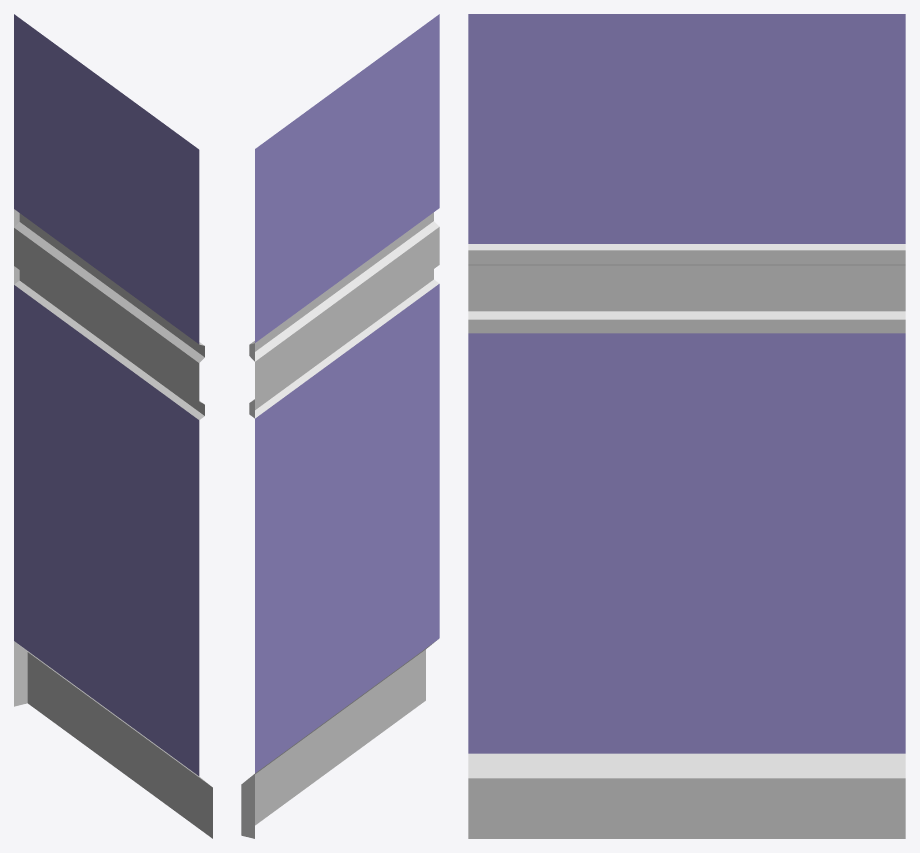
The model's file is Wall v2 end left.fbx.
The picture shows the model from 3 angles, left to right: view 1: azimuth 30°, elevation 25°; view 2: azimuth 150°, elevation 25°; view 3: azimuth 270°, elevation 25°; orthographic projection. The views are drawn at different scales.
Parts seen in each view (by area): view 1: Wall v2 end left; view 2: Wall v2 end left; view 3: Wall v2 end left.
Part boxes in pixels (x1,y1,x2,y2): Wall v2 end left: (14,14,212,838); Wall v2 end left: (241,14,439,838); Wall v2 end left: (468,14,905,838).
Size of the model in its own units: 17.02 by 825 by 400.
